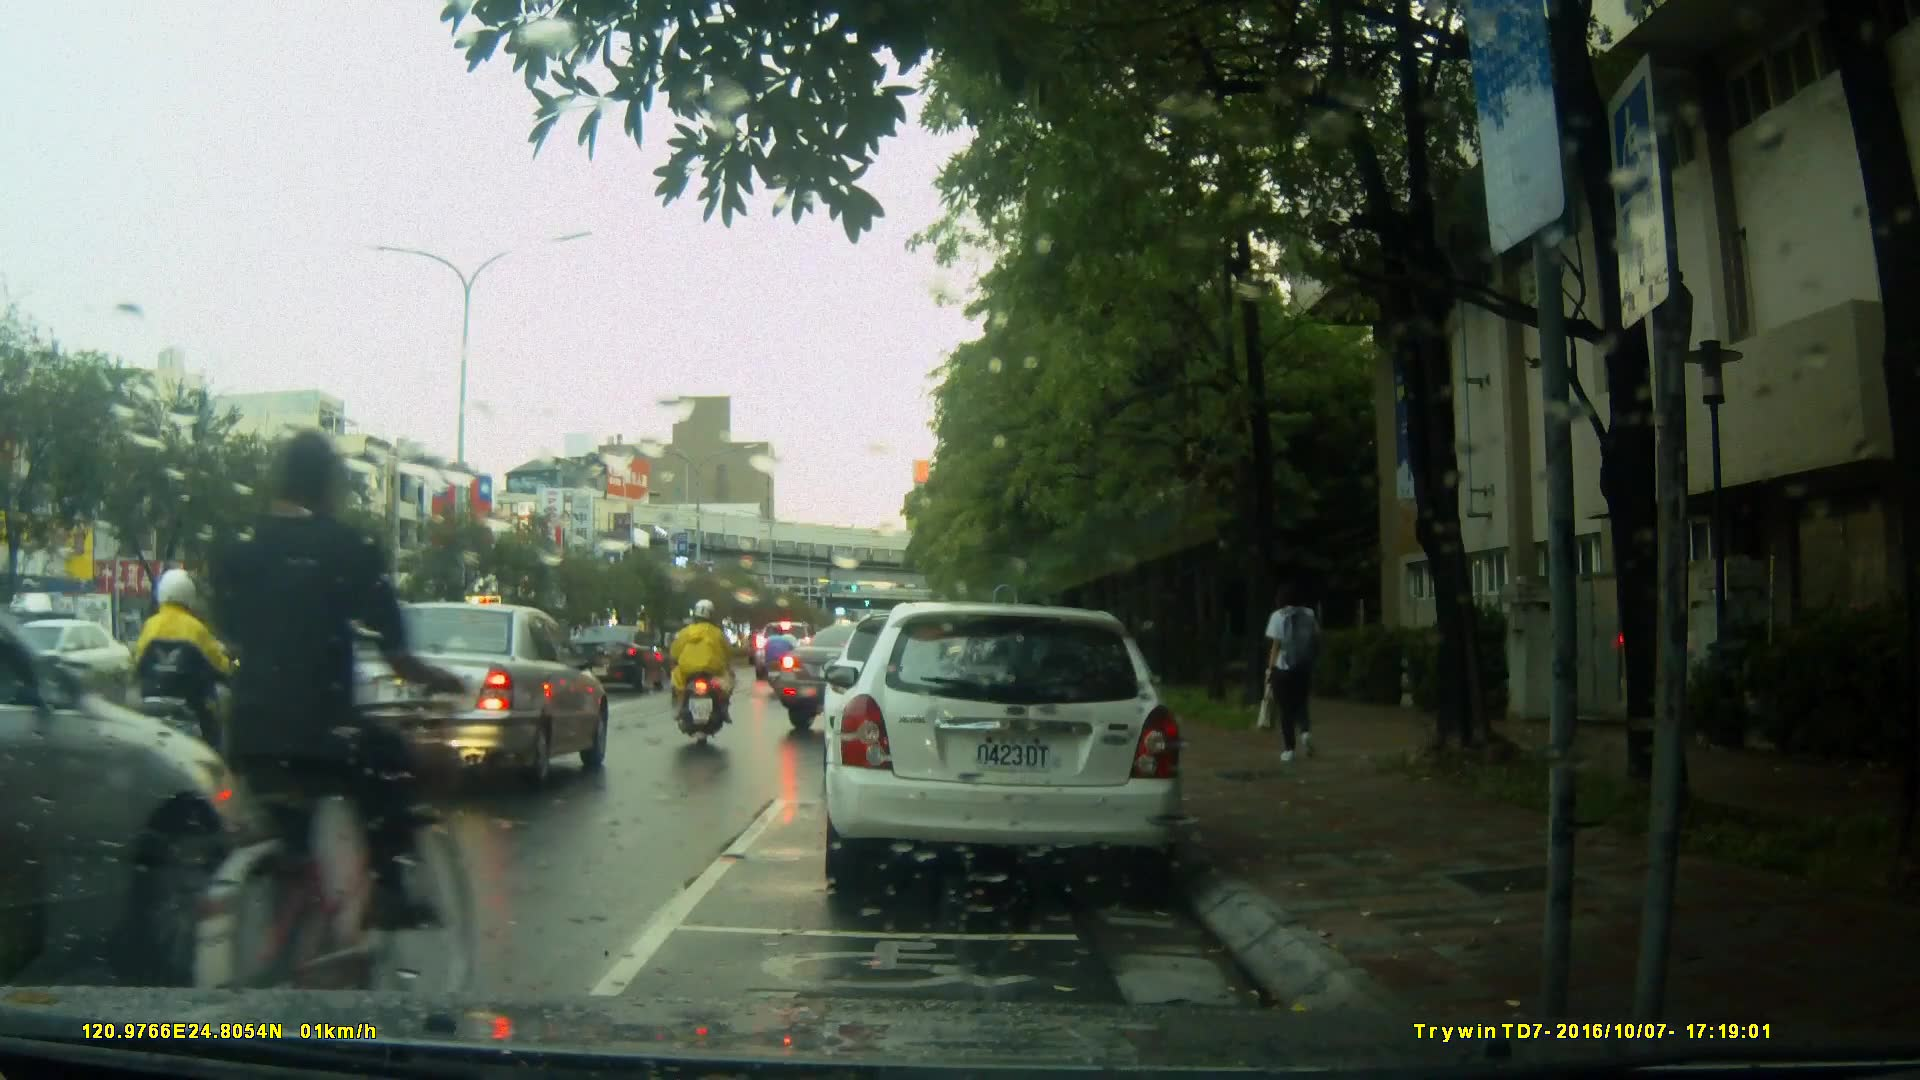pedestrian: (1265, 573, 1331, 767)
rider: (153, 420, 477, 1042), (133, 576, 255, 831), (671, 593, 736, 755), (656, 612, 695, 706), (768, 620, 794, 703)
vehicle: (1, 552, 295, 988), (820, 602, 1188, 898), (325, 600, 618, 787), (257, 593, 469, 734), (767, 621, 992, 734), (567, 624, 672, 694)
